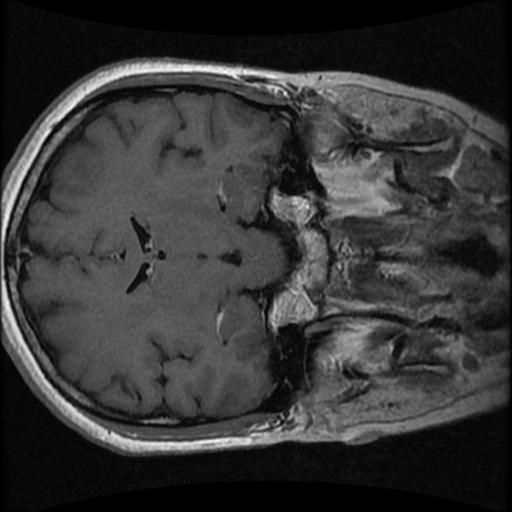pituitary tumour: (264, 182, 331, 333)
